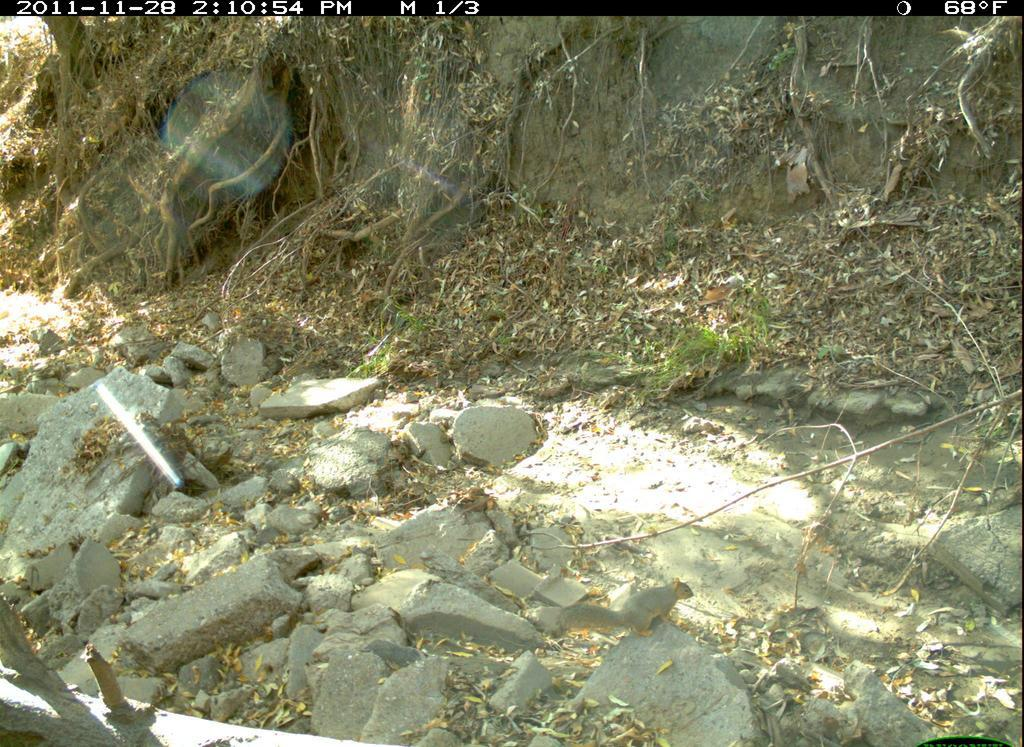squirrel: (545, 574, 698, 646)
